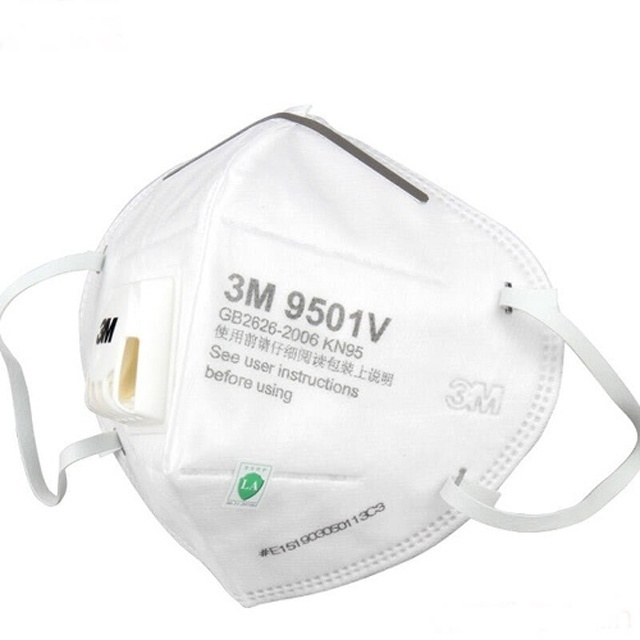mask: (1, 104, 638, 610)
